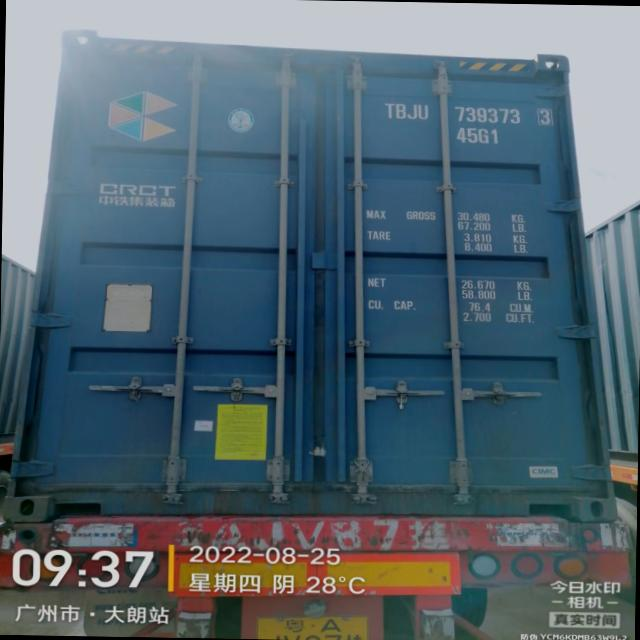seal: (393, 378, 420, 412)
